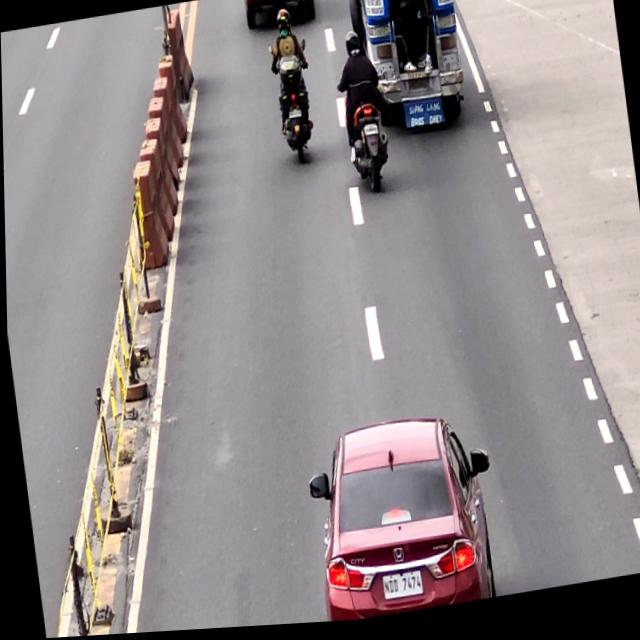Car: (300, 412, 503, 626)
Jeep: (344, 0, 470, 143)
License-Plate: (378, 574, 420, 603), (362, 126, 377, 141), (287, 111, 300, 123)
Motorcycle: (336, 75, 392, 202), (268, 43, 321, 173)
